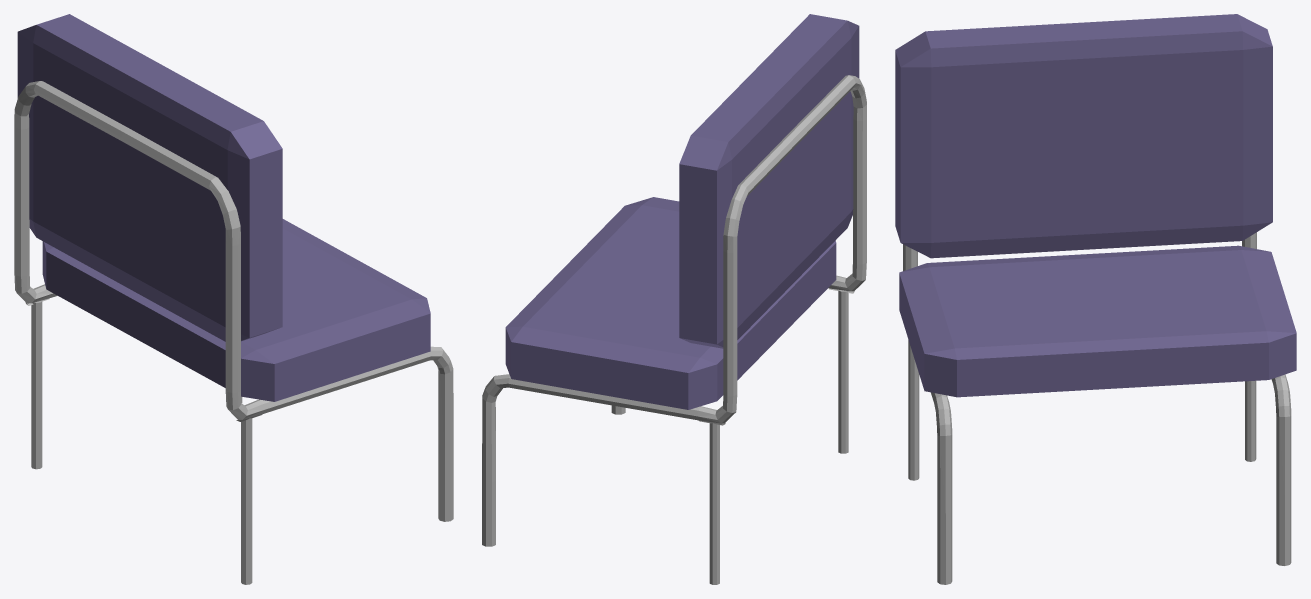
The model's file is HospitalDoble.dae.
The picture shows the model from 3 angles, left to right: view 1: azimuth 30°, elevation 25°; view 2: azimuth 150°, elevation 25°; view 3: azimuth 270°, elevation 25°; orthographic projection. The views are drawn at different scales.
Visible parts, largest first — view 1: Cojín; view 2: Cojín; view 3: Cojín.
Boxes of the visible parts, left/top/right/bottom form: Cojín: left=14, top=14, right=453, bottom=584; Cojín: left=482, top=14, right=866, bottom=584; Cojín: left=895, top=14, right=1296, bottom=584.
Size of the model in its own units: 2.53 by 3.16 by 3.84.
